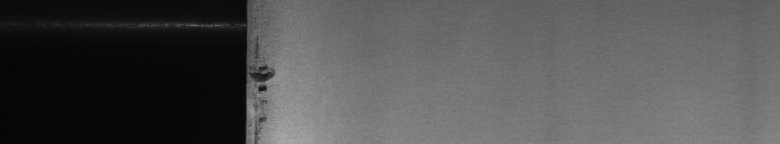hb: (256, 29, 283, 136)
